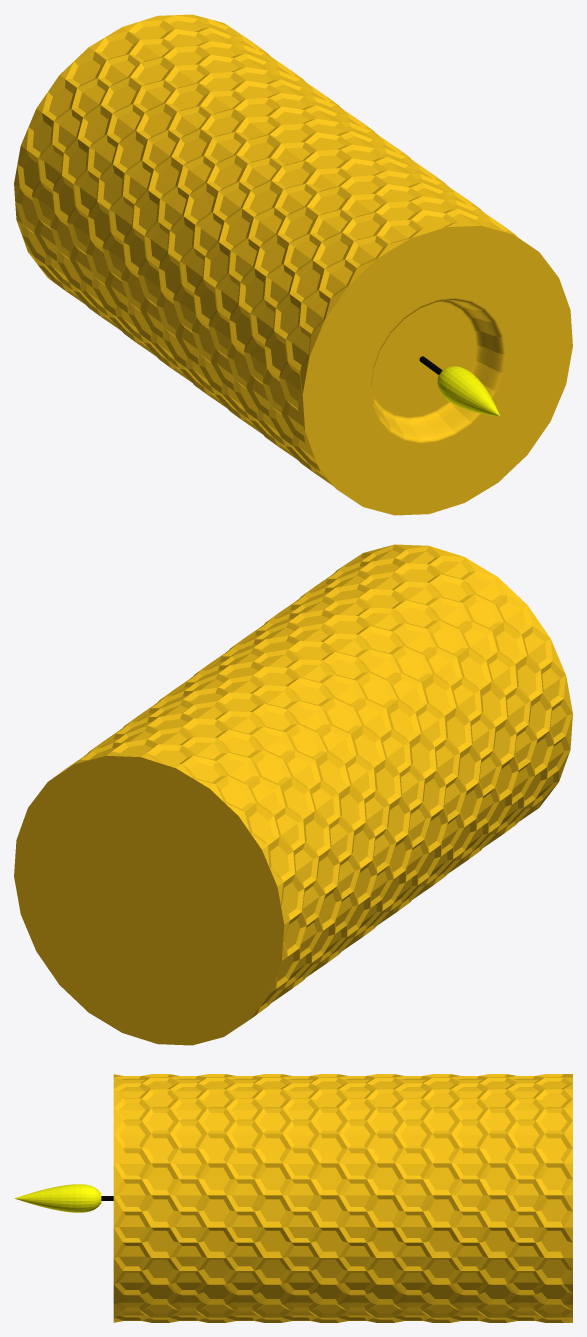
3 renders of one model, top to bottom at view 1: azimuth 30°, elevation 25°; view 2: azimuth 150°, elevation 25°; view 3: azimuth 270°, elevation 25°, orthographic. The views are drawn at different scales.
Parts seen in each view (by area): view 1: beeswax candle; view 2: beeswax candle; view 3: beeswax candle.
Part boxes in pixels (<box>): beeswax candle: <box>14,14,572,515</box>; beeswax candle: <box>14,544,572,1045</box>; beeswax candle: <box>14,1074,572,1322</box>.
Size of the model in its own units: 3.93 by 3.93 by 8.85.
